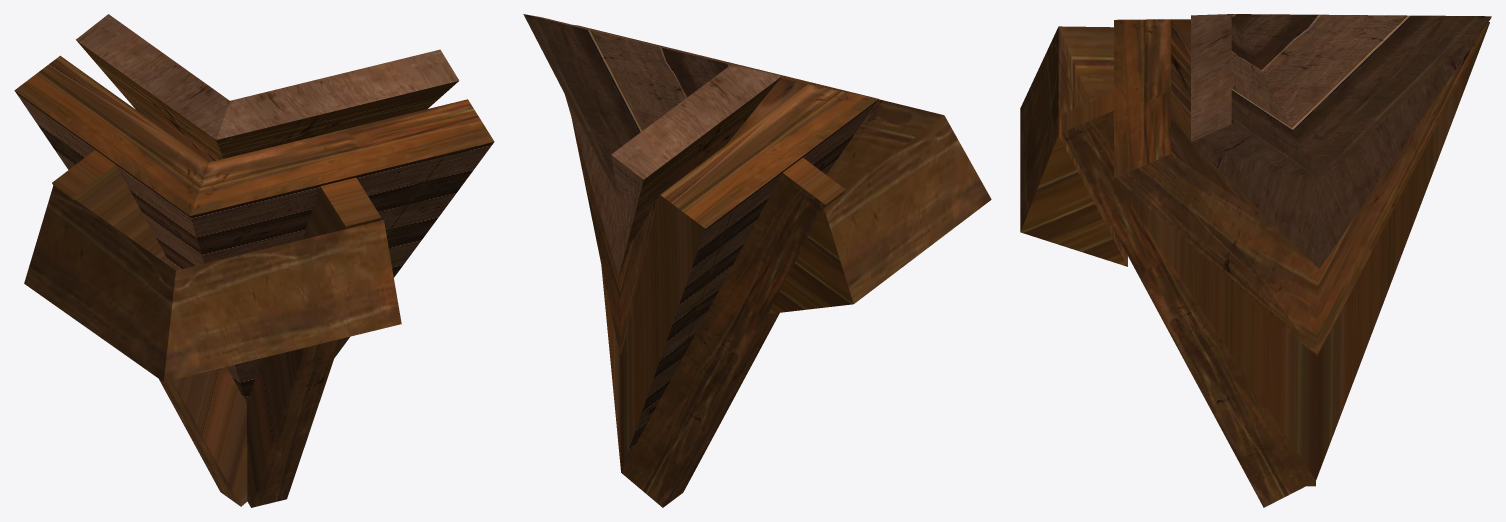
The picture shows the model from 3 angles, left to right: view 1: azimuth 30°, elevation 25°; view 2: azimuth 150°, elevation 25°; view 3: azimuth 270°, elevation 25°; orthographic projection. The views are drawn at different scales.
Visible parts, largest first — view 1: SM_BB_T2_Roof_Small_Valley_Steep_LOD0; view 2: SM_BB_T2_Roof_Small_Valley_Steep_LOD0; view 3: SM_BB_T2_Roof_Small_Valley_Steep_LOD0.
Boxes of the visible parts, bbox=[...] form: SM_BB_T2_Roof_Small_Valley_Steep_LOD0: bbox=[14, 14, 494, 507]; SM_BB_T2_Roof_Small_Valley_Steep_LOD0: bbox=[523, 14, 991, 507]; SM_BB_T2_Roof_Small_Valley_Steep_LOD0: bbox=[1020, 14, 1491, 507].
Size of the model in its own units: 1.02 by 1.1 by 1.03.
Materials: 2 (2 with a texture image).
